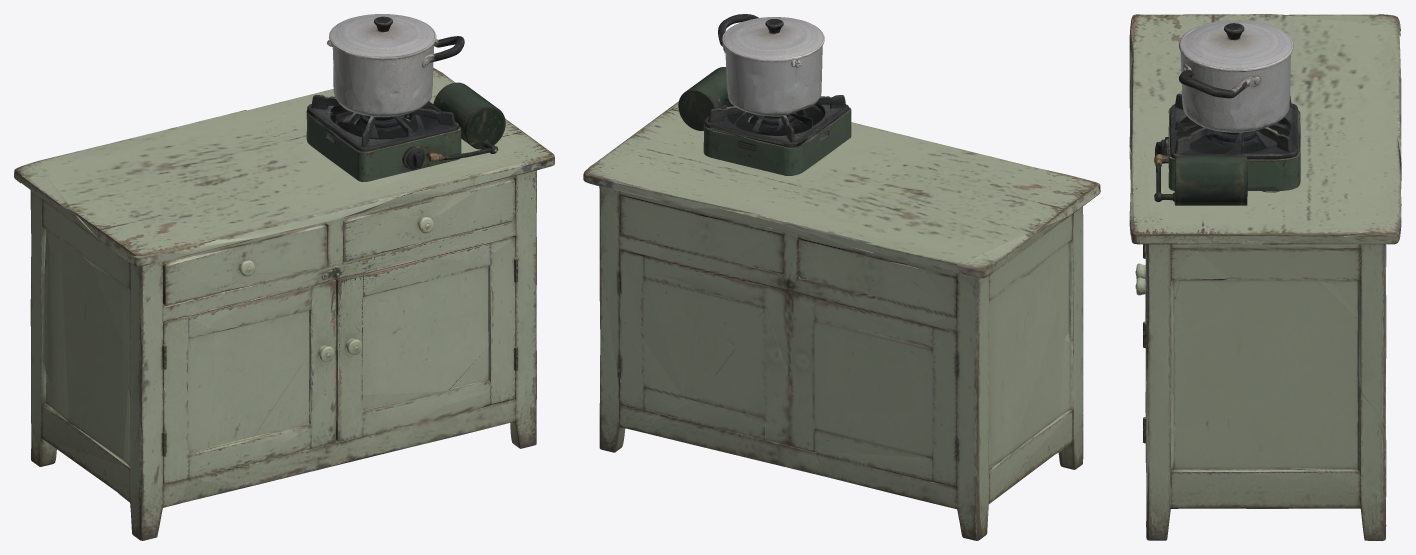
Rendered from credenza.glb.
3 renders of one model, left to right at view 1: azimuth 30°, elevation 25°; view 2: azimuth 150°, elevation 25°; view 3: azimuth 270°, elevation 25°, orthographic. The views are drawn at different scales.
Parts seen in each view (by area): view 1: Mesh_0; view 2: Mesh_0; view 3: Mesh_0.
Boxes of the visible parts, box(x1,y1,x2,y2) form: Mesh_0: box(14, 14, 554, 540); Mesh_0: box(583, 14, 1100, 540); Mesh_0: box(1129, 14, 1401, 540).
Bounding box in the file's own units: 1.9 × 1.83 × 0.9886.
Materials: 1 (1 with a texture image).
